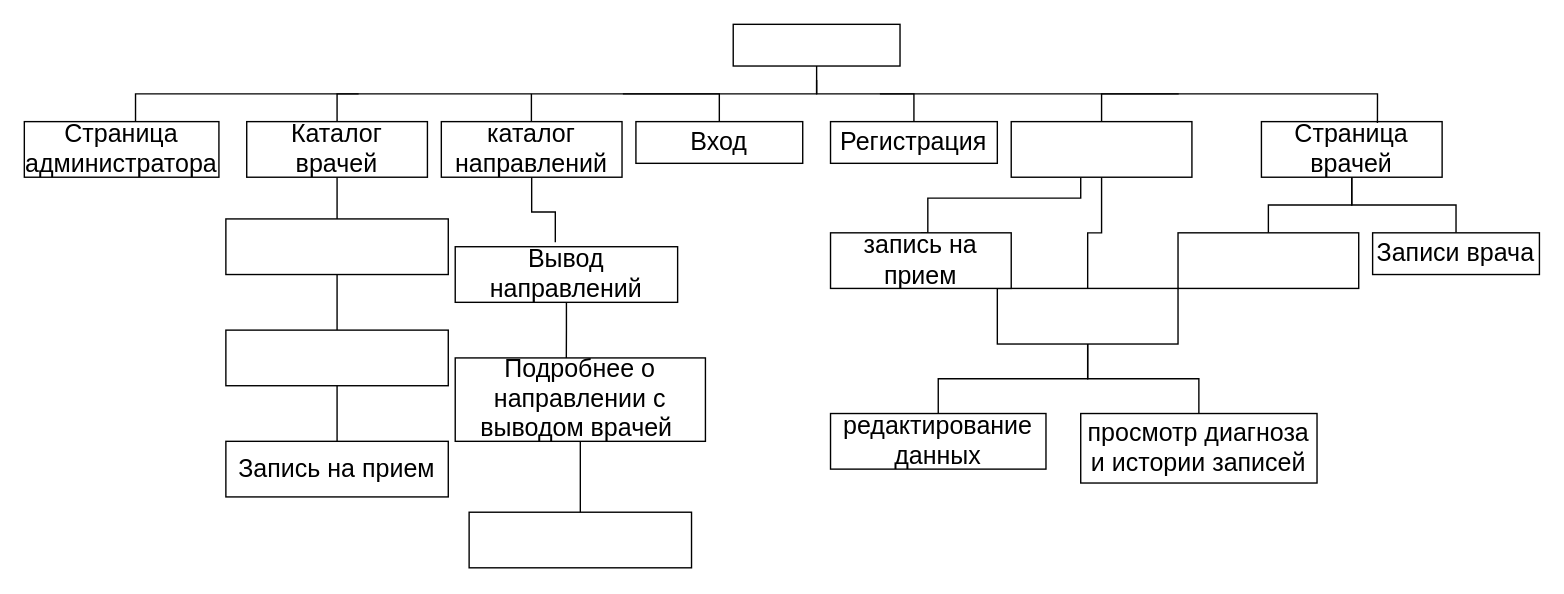
This 1564x594 diagram has some shape labels left out. Each missing label, with the centre of its shape:
вывод всех врачей: (x=336, y=246)
Главная: (x=816, y=44)
Добавление новой записи: (x=1268, y=259)
Личный кабинет: (x=1101, y=148)
медицинская карта: (x=1087, y=315)
Переход на страницу врача: (x=580, y=539)
Подробнее о враче: (x=336, y=357)
